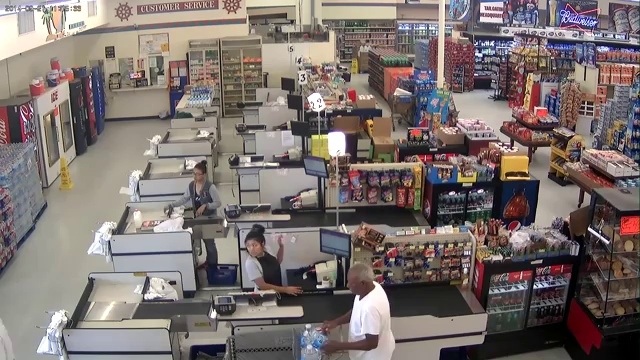face: (245, 239, 263, 257), (345, 274, 359, 295), (192, 165, 203, 182)
